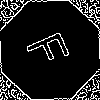F: (25, 25, 79, 71)
